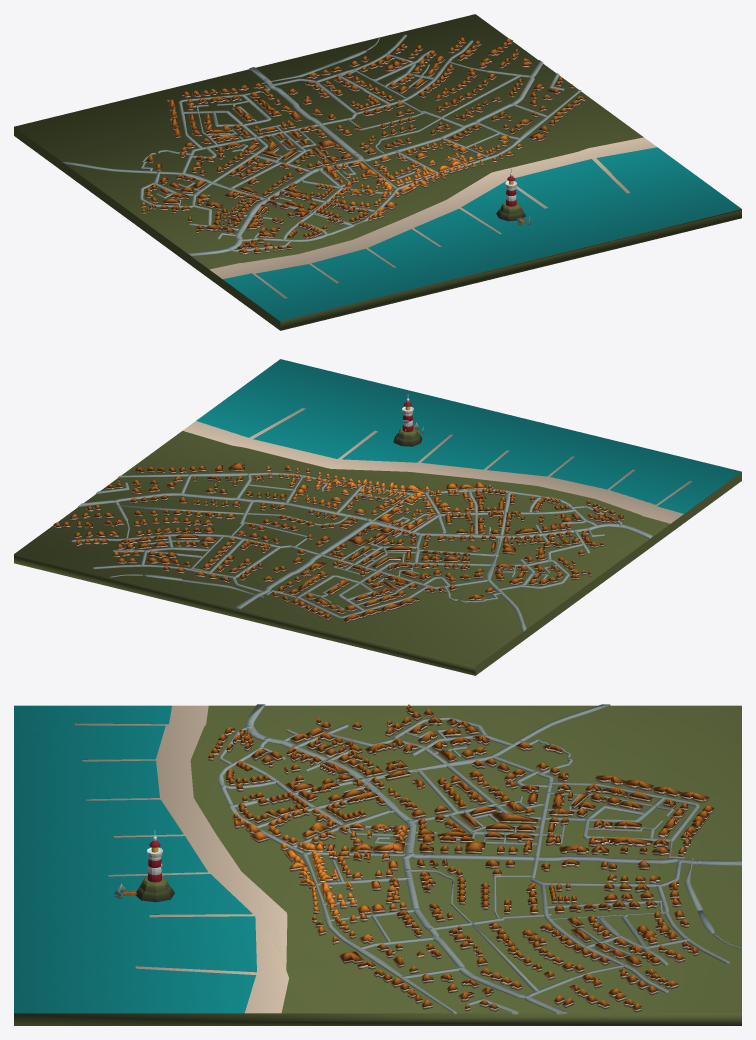
File: zoutelande final 1.fbx
The picture shows the model from 3 angles, top to bottom: view 1: azimuth 30°, elevation 25°; view 2: azimuth 150°, elevation 25°; view 3: azimuth 270°, elevation 25°; orthographic projection. The views are drawn at different scales.
Parts seen in each view (by area): view 1: MiniVuurtoren.002; view 2: MiniVuurtoren.002; view 3: MiniVuurtoren.002.
Boxes of the visible parts, x1,y1,x2,y2 form: MiniVuurtoren.002: (14,14,741,330); MiniVuurtoren.002: (14,359,741,675); MiniVuurtoren.002: (14,704,741,1025).
Size of the model in its own units: 5265 by 607 by 5265.
5 materials, 5 textured.
